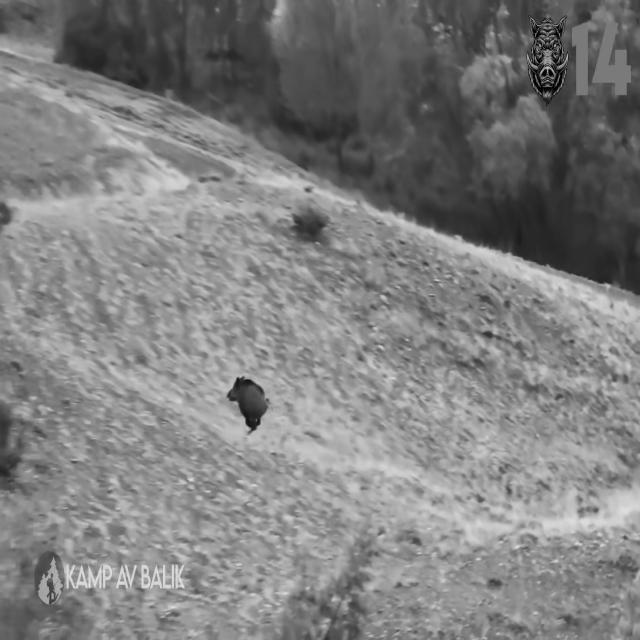boar: (528, 14, 569, 104), (227, 377, 269, 433)
